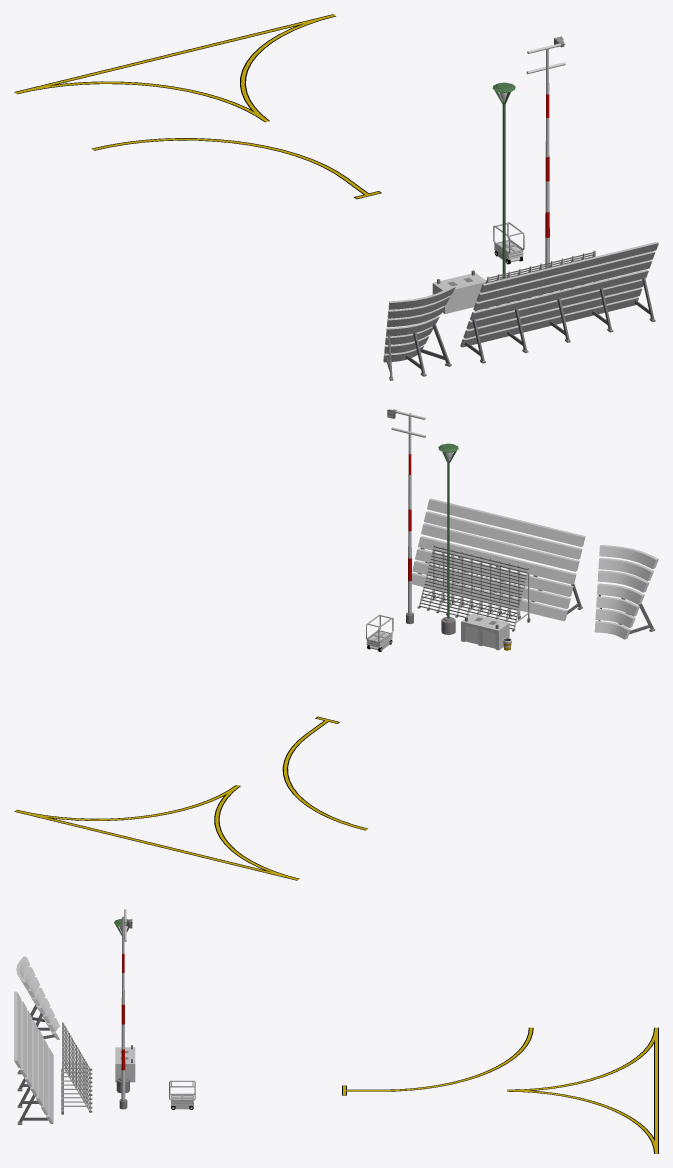
The model's file is props.fbx.
3 views of the same model, one above another, from view 1: azimuth 30°, elevation 25°; view 2: azimuth 150°, elevation 25°; view 3: azimuth 270°, elevation 25° (orthographic). The views are drawn at different scales.
Visible parts, largest first — view 1: prop_blast_fence, prop_blast_fence_angle, taxiline_r30_delta, prop_powerbox, prop_pole_reflector, prop_lamp, taxiline_r30, prop_cart, prop_perimiter_fence; view 2: prop_blast_fence, prop_perimiter_fence, prop_blast_fence_angle, taxiline_r30_delta, prop_powerbox, prop_pole_reflector, prop_lamp, taxiline_r30; view 3: prop_blast_fence, prop_perimiter_fence, taxiline_r30_delta, prop_blast_fence_angle, prop_pole_reflector, taxiline_r30, prop_powerbox, prop_cart.
Boxes of the visible parts, bbox=[...] form: prop_blast_fence: bbox=[460, 242, 658, 363]; prop_blast_fence_angle: bbox=[383, 286, 455, 380]; taxiline_r30_delta: bbox=[14, 14, 335, 122]; prop_powerbox: bbox=[432, 270, 485, 313]; prop_pole_reflector: bbox=[526, 42, 565, 267]; prop_lamp: bbox=[492, 82, 515, 278]; taxiline_r30: bbox=[91, 138, 346, 178]; prop_cart: bbox=[493, 222, 524, 264]; prop_perimiter_fence: bbox=[475, 250, 595, 311]; prop_blast_fence: bbox=[412, 498, 585, 621]; prop_perimiter_fence: bbox=[417, 544, 530, 631]; prop_blast_fence_angle: bbox=[594, 545, 658, 639]; taxiline_r30_delta: bbox=[14, 785, 299, 880]; prop_powerbox: bbox=[461, 613, 509, 650]; prop_pole_reflector: bbox=[391, 410, 425, 624]; prop_lamp: bbox=[438, 443, 458, 634]; taxiline_r30: bbox=[282, 735, 367, 830]; prop_blast_fence: bbox=[14, 991, 53, 1124]; prop_perimiter_fence: bbox=[61, 1022, 92, 1114]; taxiline_r30_delta: bbox=[507, 1027, 658, 1153]; prop_blast_fence_angle: bbox=[16, 956, 59, 1039]; prop_pole_reflector: bbox=[119, 909, 127, 1109]; taxiline_r30: bbox=[381, 1027, 533, 1091]; prop_powerbox: bbox=[115, 1045, 135, 1082]; prop_cart: bbox=[169, 1080, 195, 1109].
Bounding box in the file's own units: 3152 × 2174 × 6470.
